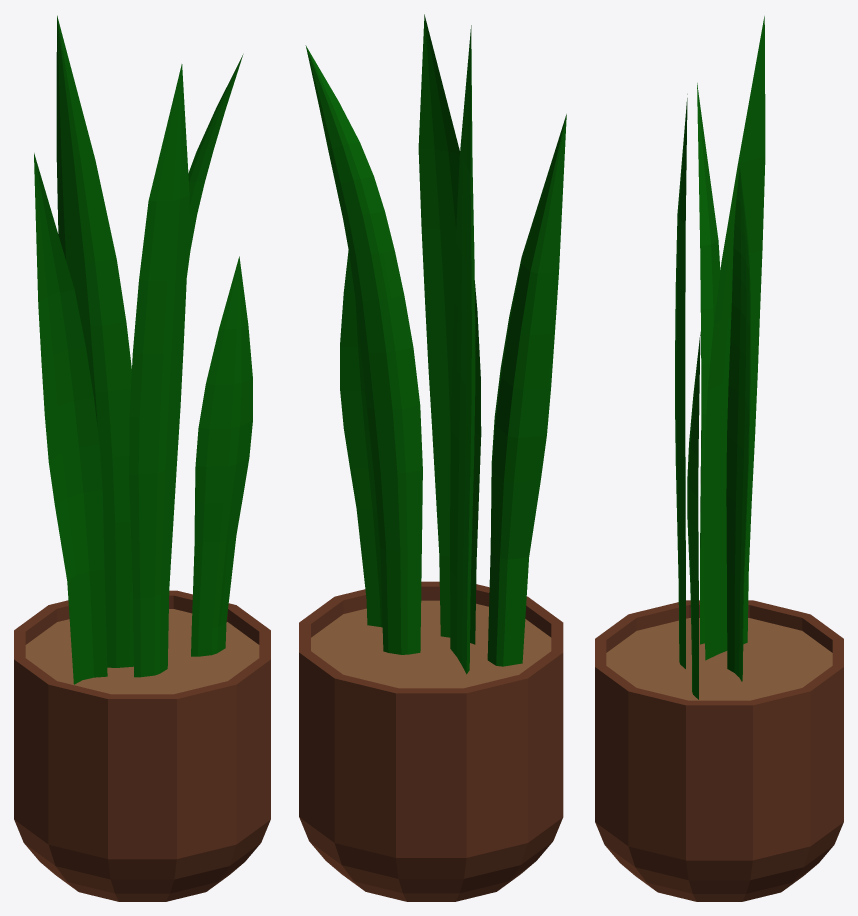
The model's file is chaucay02.fbx.
The picture shows the model from 3 angles, left to right: view 1: azimuth 30°, elevation 25°; view 2: azimuth 150°, elevation 25°; view 3: azimuth 270°, elevation 25°; orthographic projection. The views are drawn at different scales.
Parts seen in each view (by area): view 1: chaucay02; view 2: chaucay02; view 3: chaucay02.
Boxes of the visible parts, left/top/right/bottom form: chaucay02: left=14, top=15, right=270, bottom=901; chaucay02: left=299, top=14, right=566, bottom=901; chaucay02: left=595, top=16, right=843, bottom=901.
Size of the model in its own units: 64.91 by 227 by 62.26.
1 material, 1 textured.
